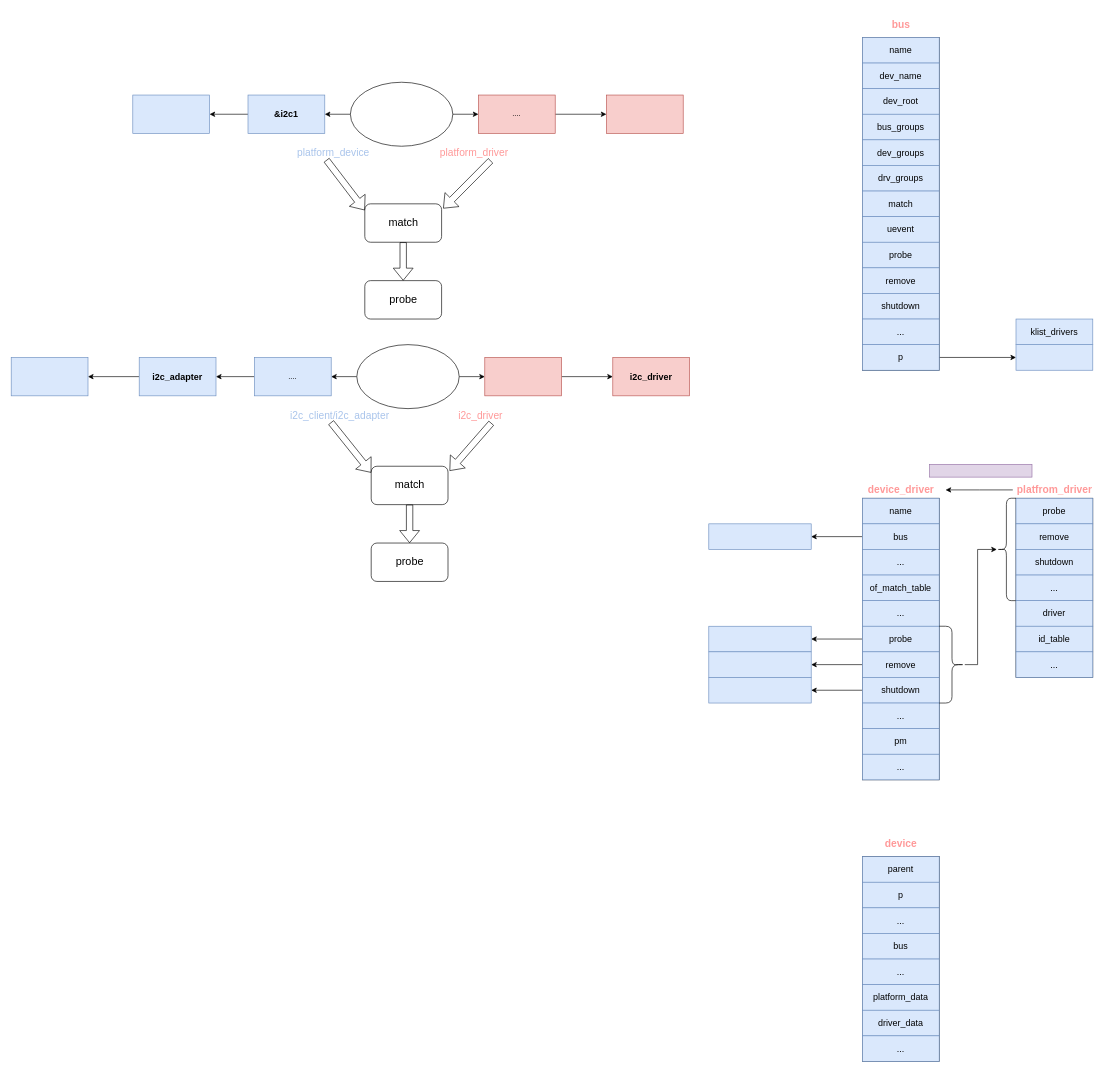
Some shapes in this 1107 by 1073 pixel diagram are drawn without their labels. Each missing label, with the box of its shape:
dummy_driver: (484, 357, 562, 396)
i2c_bus: (356, 344, 459, 409)
i2c_client: (11, 357, 88, 396)
i2c_imx_driver: (606, 94, 683, 133)
inheritance + polymorphism: (929, 464, 1032, 477)
klist_devices: (1015, 344, 1093, 370)
platform_bus: (350, 82, 453, 146)
platform_bus_type: (708, 523, 811, 549)
platform_drv_probe: (708, 626, 811, 652)
platform_drv_remove: (708, 651, 811, 677)
platform_drv_shutdown: (708, 677, 811, 703)
